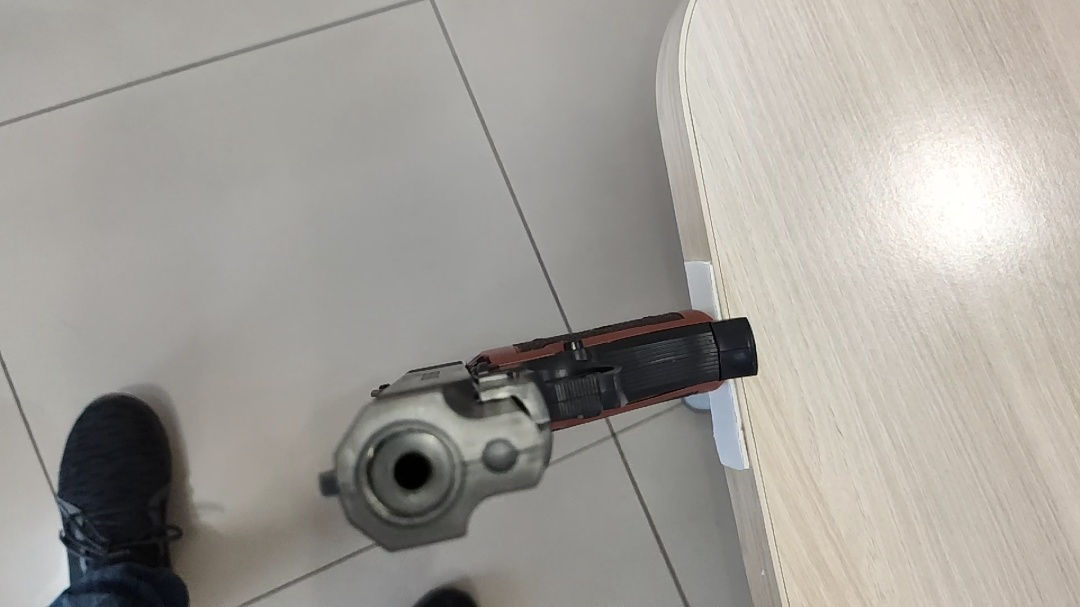gun: (320, 307, 760, 553)
